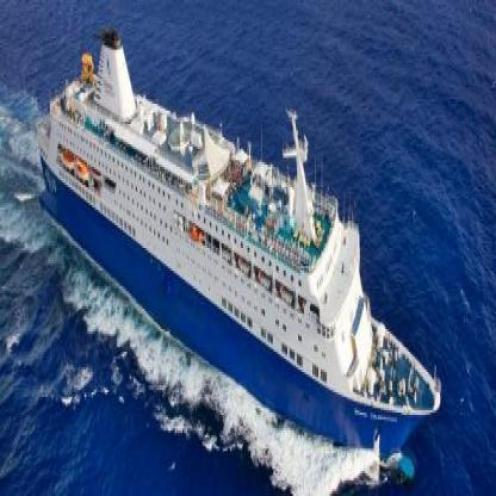Ship: (26, 37, 454, 470)
